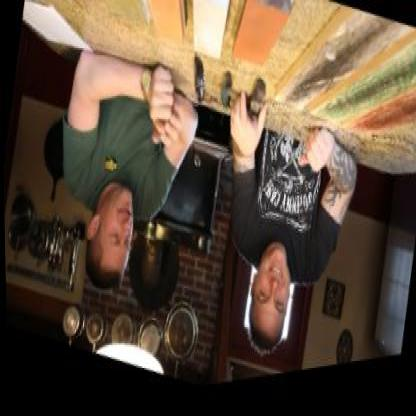knife: (228, 72, 272, 150)
